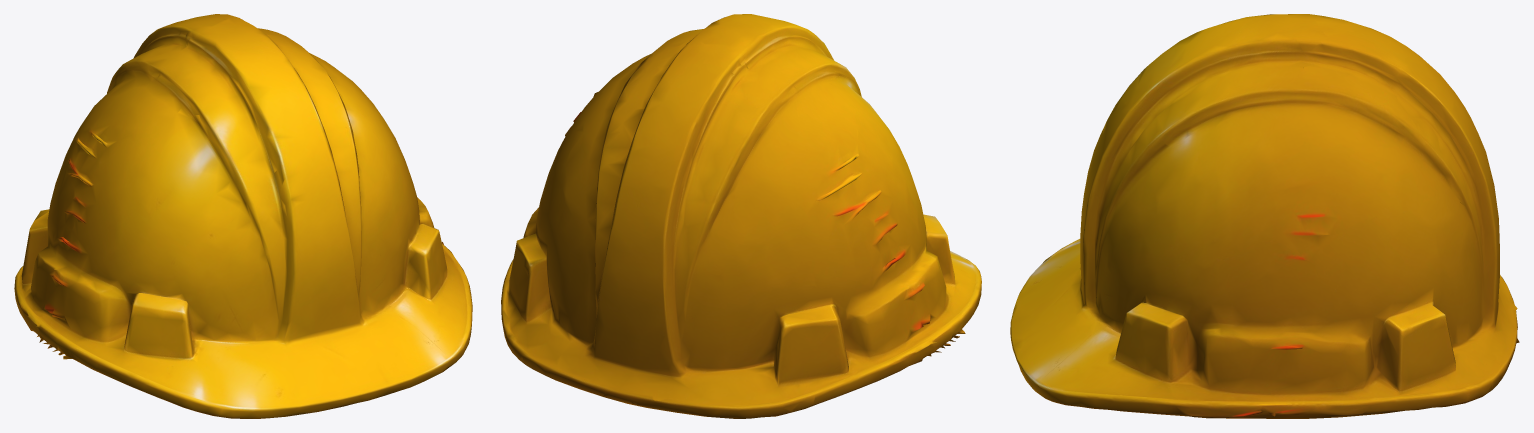
File: capacete de minerador.glb
3 renders of one model, left to right at view 1: azimuth 30°, elevation 25°; view 2: azimuth 150°, elevation 25°; view 3: azimuth 270°, elevation 25°, orthographic. The views are drawn at different scales.
Visible parts, largest first — view 1: tripo_node_1397388a-65c5-487b-ae85-6c02010ecd71; view 2: tripo_node_1397388a-65c5-487b-ae85-6c02010ecd71; view 3: tripo_node_1397388a-65c5-487b-ae85-6c02010ecd71.
Part boxes in pixels (x1,y1,x2,y2): tripo_node_1397388a-65c5-487b-ae85-6c02010ecd71: (14, 14, 472, 418); tripo_node_1397388a-65c5-487b-ae85-6c02010ecd71: (501, 14, 981, 418); tripo_node_1397388a-65c5-487b-ae85-6c02010ecd71: (1010, 14, 1519, 418).
Bounding box in the file's own units: 1 × 0.6843 × 0.9976.
Materials: 1 (1 with a texture image).
